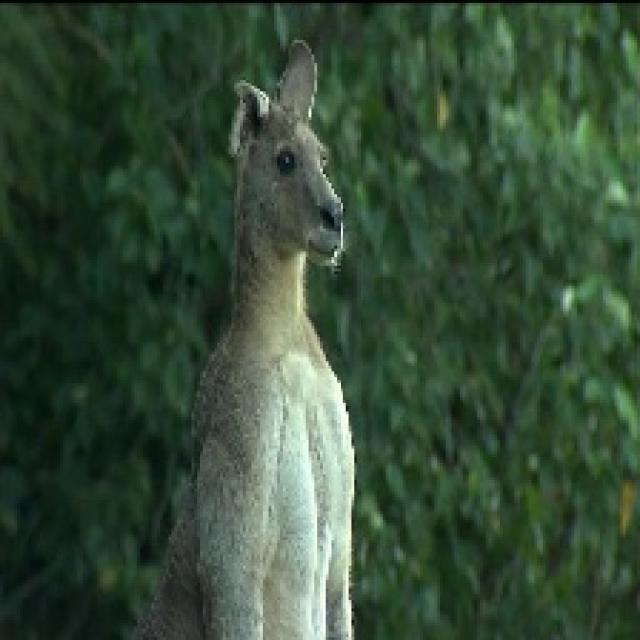animal: (166, 35, 483, 640)
